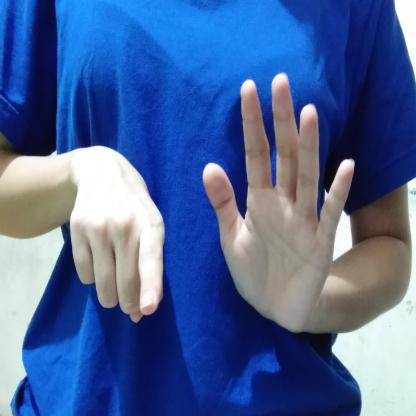stop: (64, 69, 361, 343)
